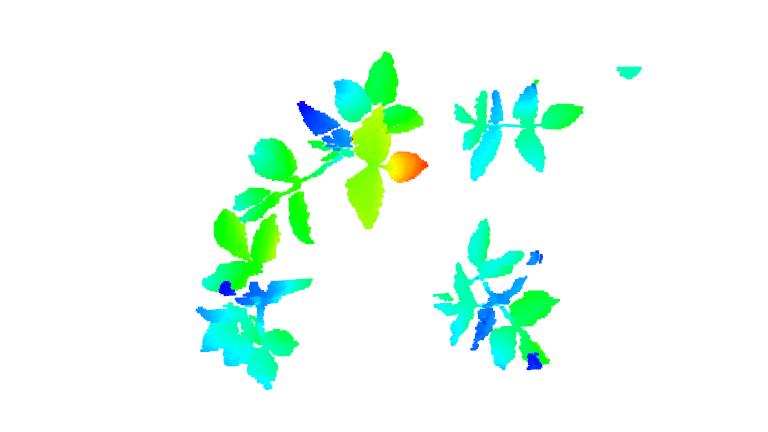mungbean: (229, 51, 430, 229), (190, 208, 316, 391), (430, 216, 565, 373), (448, 78, 584, 183)
